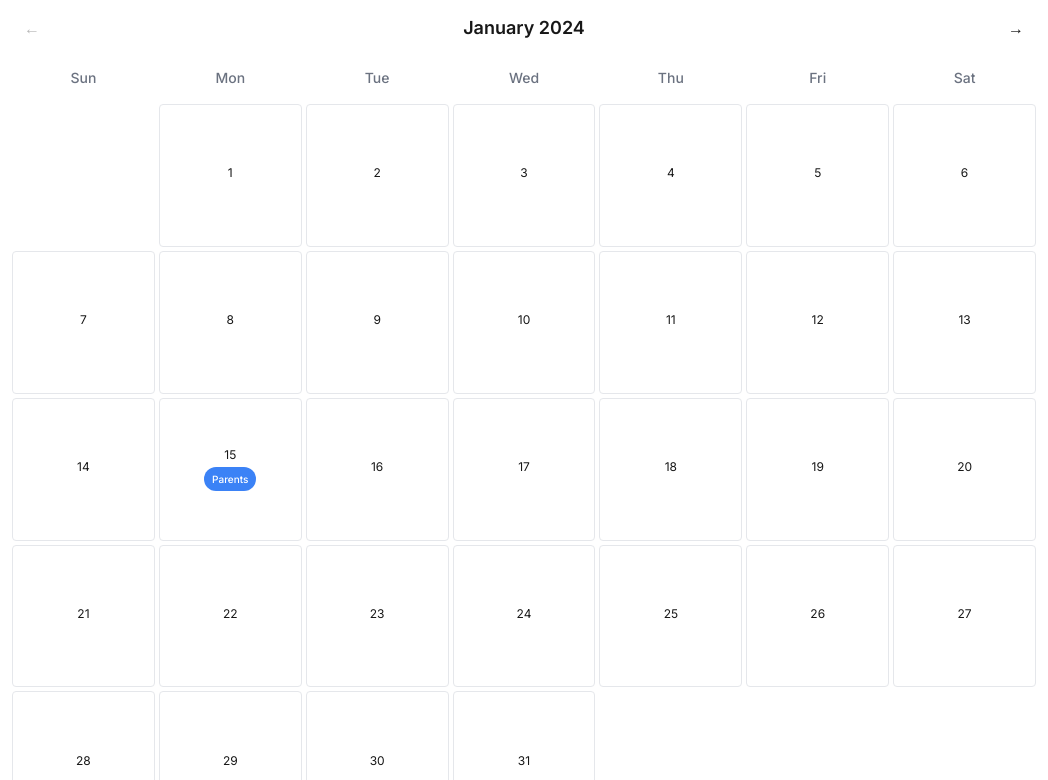
it: Calendar › should navigate months
The width and height of the screenshot is (1048, 780).
Expected: the heading "January 2024" is shown, [463,14,585,42]
Click the button "→" at (1016, 28), box [996,12,1036,44]
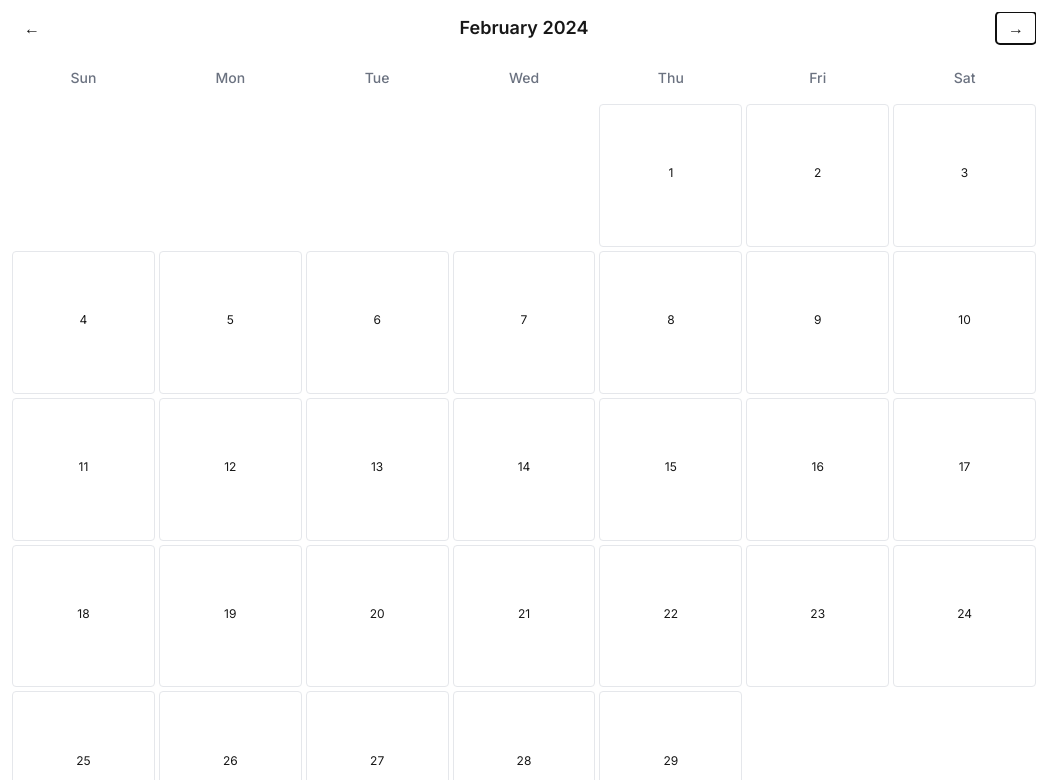
Now the heading "February 2024" is shown, box [460,14,588,42]
